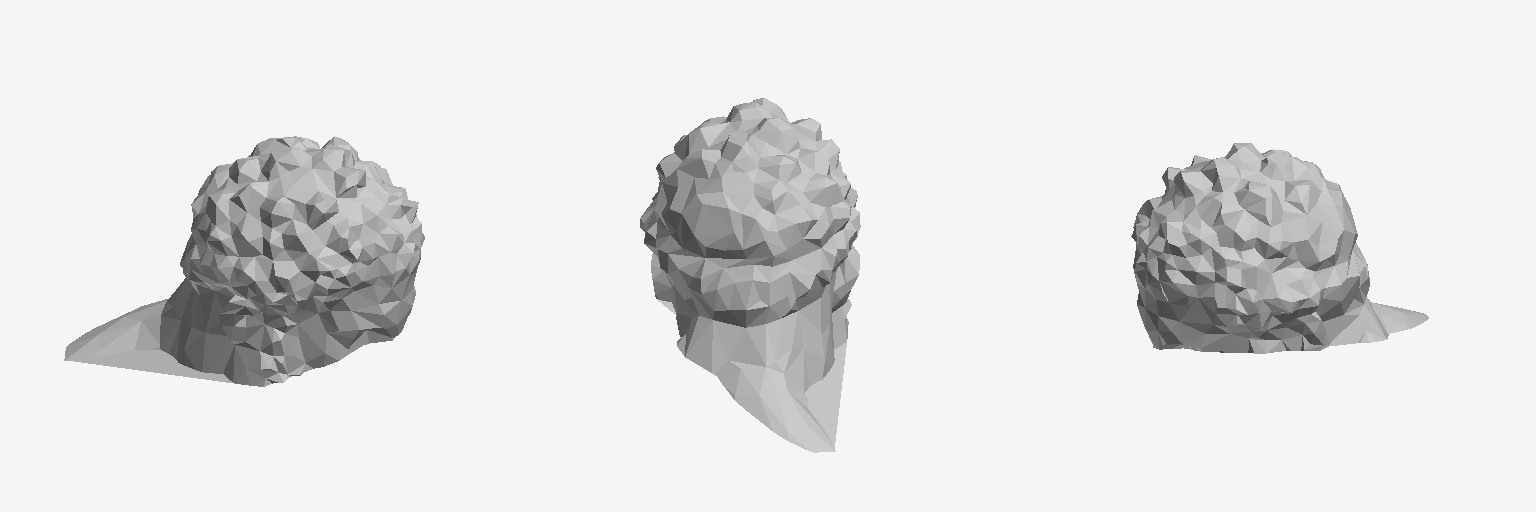
Rendered from bust1.obj.
The picture shows the model from 3 angles: view 1: azimuth 30°, elevation 25°; view 2: azimuth 150°, elevation 25°; view 3: azimuth 270°, elevation 25°; orthographic projection.
Visible parts, largest first — view 1: hercules; view 2: hercules; view 3: hercules.
Part boxes in pixels (bbox=[...]): hercules: bbox=[64, 136, 424, 386]; hercules: bbox=[640, 98, 860, 452]; hercules: bbox=[1131, 143, 1428, 353].
Size of the model in its own units: 13.49 by 11.8 by 13.38.